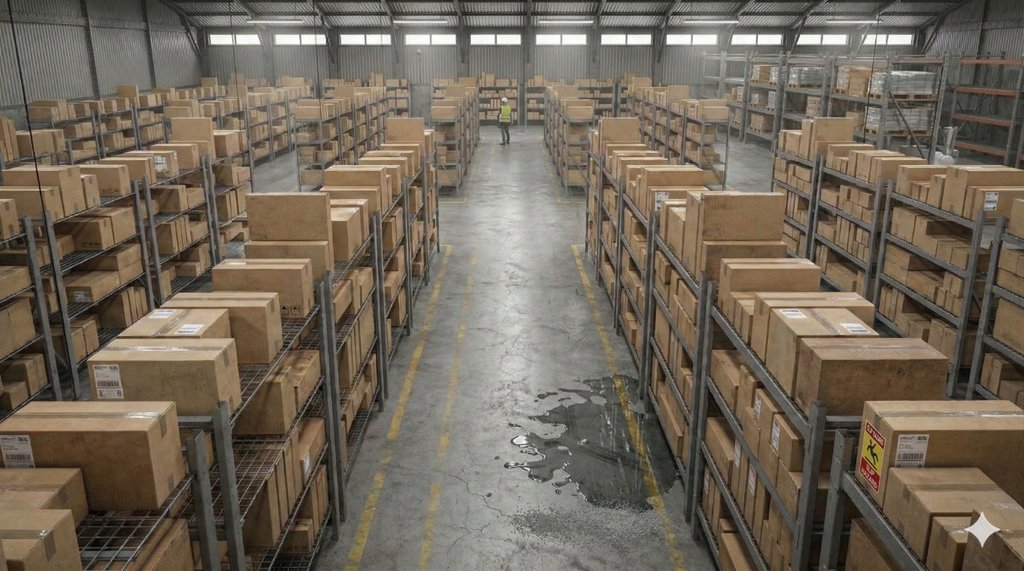empty_shelf: (952, 51, 1019, 157), (694, 40, 751, 82)
person: (486, 80, 529, 164)
safety_vest: (497, 104, 512, 122)
spill: (513, 353, 665, 522)
